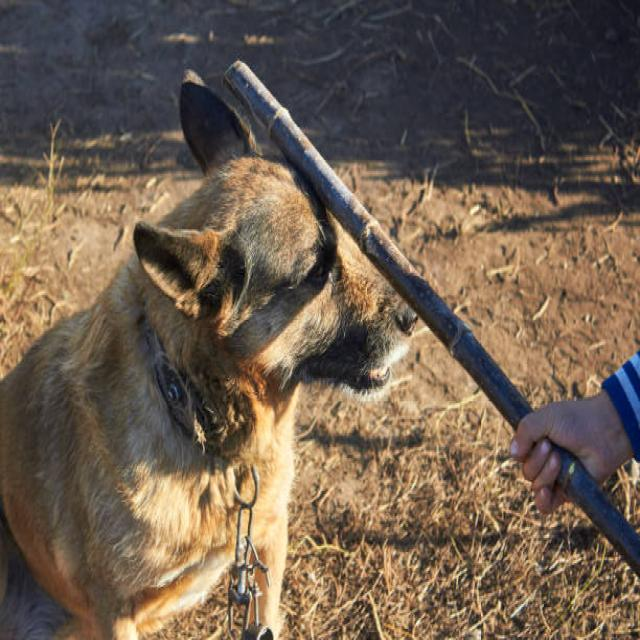injured-animals: (1, 61, 423, 637)
